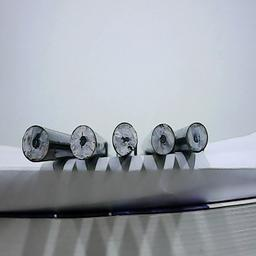pen: (20, 124, 51, 163), (111, 121, 140, 158), (68, 124, 97, 161), (150, 122, 176, 157), (186, 122, 211, 153)
